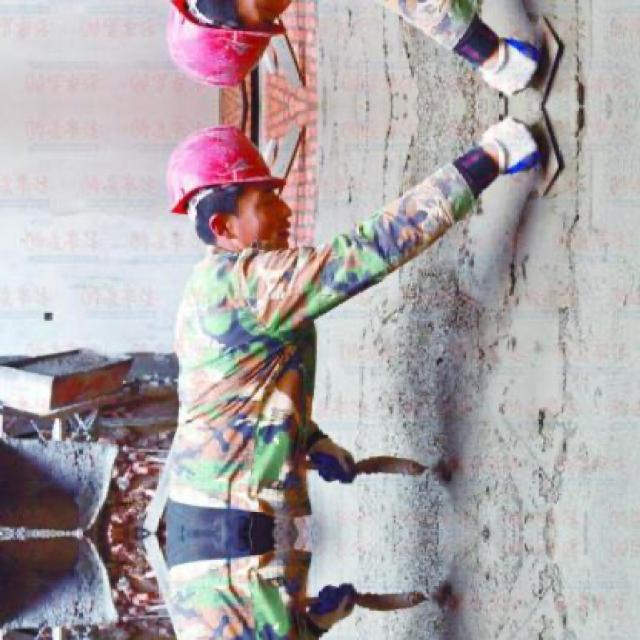helmet: (148, 112, 300, 264), (148, 0, 302, 102)
